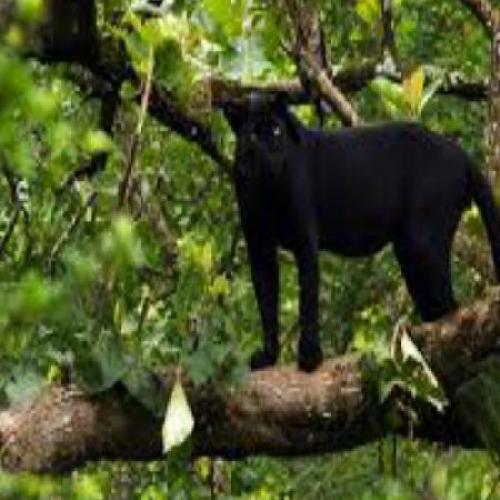panther-endangered: (226, 92, 491, 348)
